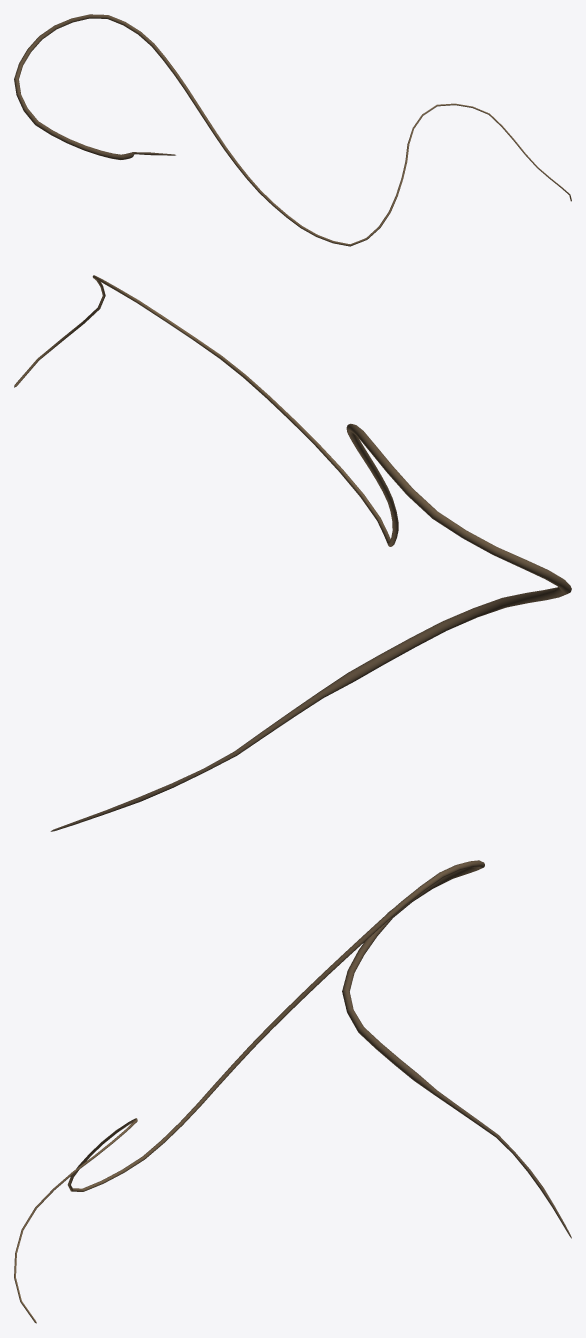
The model's file is microscopic-dust-particles-hair-strand_v11.glb.
3 views of the same model, one above another, from view 1: azimuth 30°, elevation 25°; view 2: azimuth 150°, elevation 25°; view 3: azimuth 270°, elevation 25° (orthographic). The views are drawn at different scales.
Parts seen in each view (by area): view 1: Hair Strand_v11; view 2: Hair Strand_v11; view 3: Hair Strand_v11.
Part boxes in pixels (left/top/right/bottom): Hair Strand_v11: left=14, top=14, right=571, bottom=246; Hair Strand_v11: left=14, top=275, right=571, bottom=831; Hair Strand_v11: left=14, top=860, right=571, bottom=1323.
Size of the model in its own units: 0.5 by 0.2315 by 0.4082.
